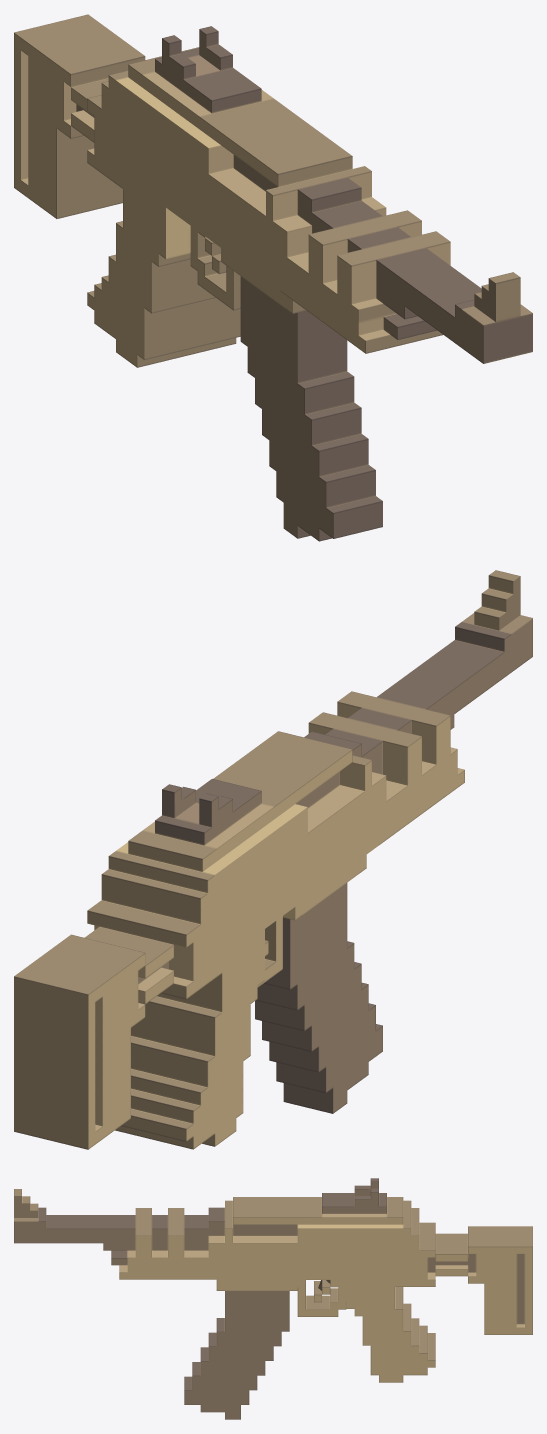
Rendered from Rifel.FBX.
The picture shows the model from 3 angles, top to bottom: view 1: azimuth 30°, elevation 25°; view 2: azimuth 150°, elevation 25°; view 3: azimuth 270°, elevation 25°; orthographic projection. The views are drawn at different scales.
Parts seen in each view (by area): view 1: Plane003; view 2: Plane003; view 3: Plane003.
Part boxes in pixels (x1,y1,x2,y2): Plane003: (14,14,532,541); Plane003: (14,570,532,1149); Plane003: (14,1178,532,1419).
Bounding box in the file's own units: 2.5 × 9.69 × 20.
1 material, 1 textured.
